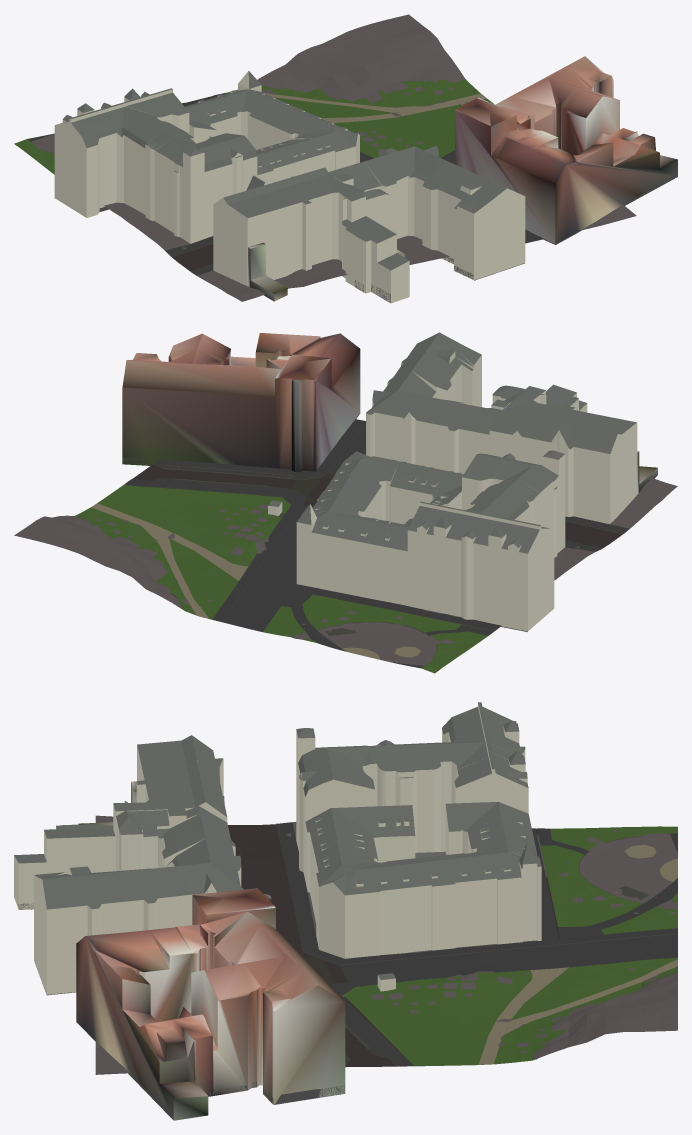
The picture shows the model from 3 angles, top to bottom: view 1: azimuth 30°, elevation 25°; view 2: azimuth 150°, elevation 25°; view 3: azimuth 270°, elevation 25°; orthographic projection. The views are drawn at different scales.
Visible parts, largest first — view 1: c_m02_p09; view 2: c_m02_p09; view 3: c_m02_p09.
Part boxes in pixels (bbox=[...]): c_m02_p09: bbox=[14, 14, 677, 303]; c_m02_p09: bbox=[14, 332, 677, 673]; c_m02_p09: bbox=[14, 702, 677, 1120].
Size of the model in its own units: 159 by 30.23 by 146.
